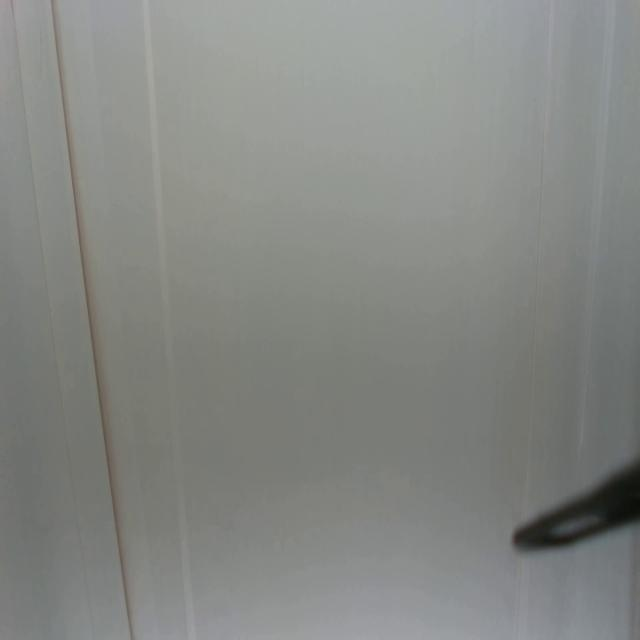crease: (50, 0, 134, 640), (11, 0, 95, 638), (143, 0, 196, 637), (576, 0, 615, 470), (521, 4, 552, 506), (514, 560, 524, 639)
